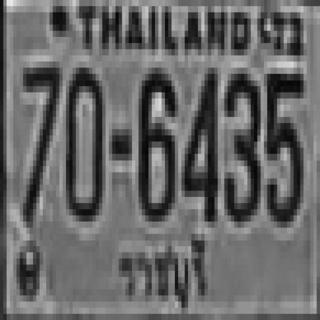N00: (63, 62, 102, 215)
N03: (223, 68, 259, 221)
N04: (180, 65, 216, 218)
N05: (264, 68, 300, 221)
N06: (137, 68, 173, 215)
N07: (21, 65, 58, 218)
P52: (117, 224, 213, 316)
